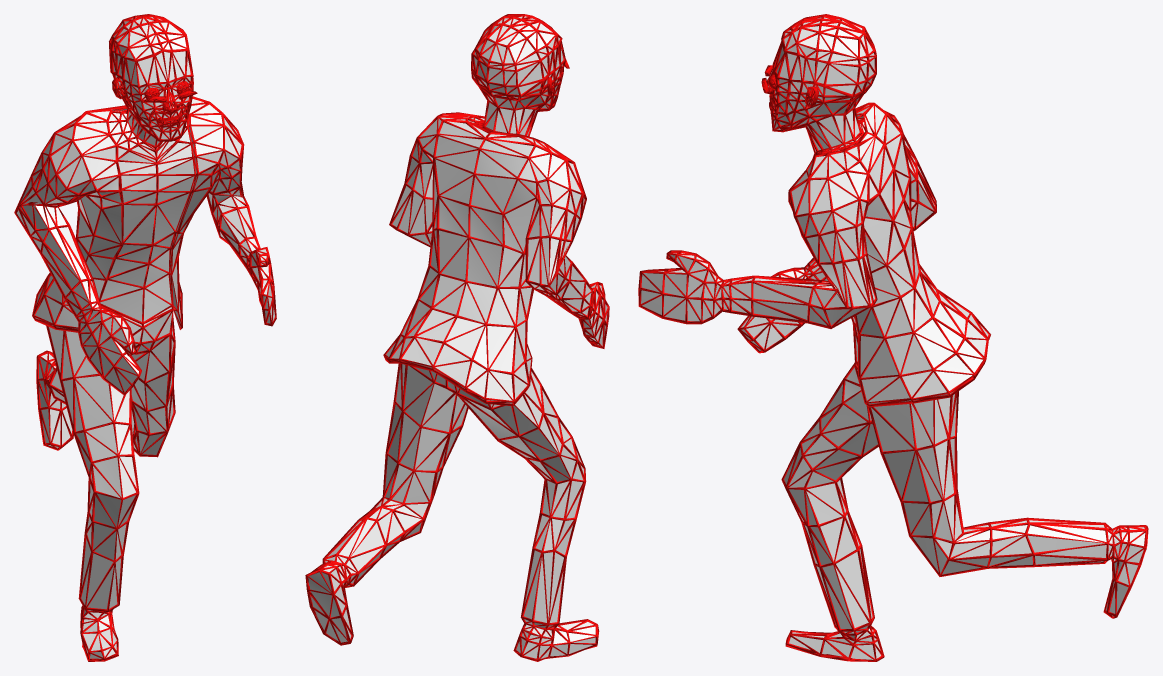
The model's file is elegantRun_000010.obj.
The picture shows the model from 3 angles, left to right: view 1: azimuth 30°, elevation 25°; view 2: azimuth 150°, elevation 25°; view 3: azimuth 270°, elevation 25°; orthographic projection. The views are drawn at different scales.
Parts seen in each view (by area): view 1: BaseHuman_Cylinder.002; view 2: BaseHuman_Cylinder.002; view 3: BaseHuman_Cylinder.002.
Part boxes in pixels (x1=…): BaseHuman_Cylinder.002: x1=14, y1=14, x2=276, y2=661; BaseHuman_Cylinder.002: x1=305, y1=14, x2=609, y2=661; BaseHuman_Cylinder.002: x1=638, y1=14, x2=1148, y2=661.
Size of the model in its own units: 1.51 by 4.6 by 3.21.
